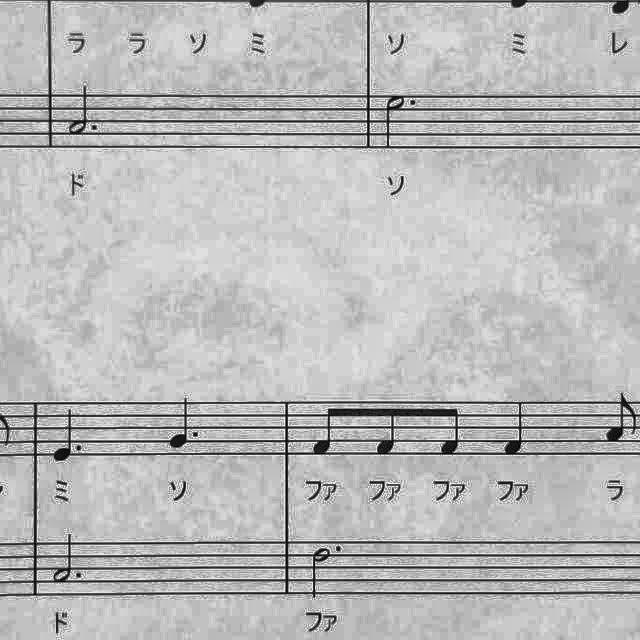Eighth-note: (600, 392, 640, 448), (310, 398, 346, 460), (371, 398, 404, 460), (434, 403, 466, 461)
Half-dot: (379, 85, 426, 155), (308, 538, 348, 602), (50, 533, 90, 591), (64, 82, 104, 138)
Quarter-dot: (164, 394, 206, 454), (50, 406, 90, 466)
Quarter-note: (500, 392, 532, 460)
